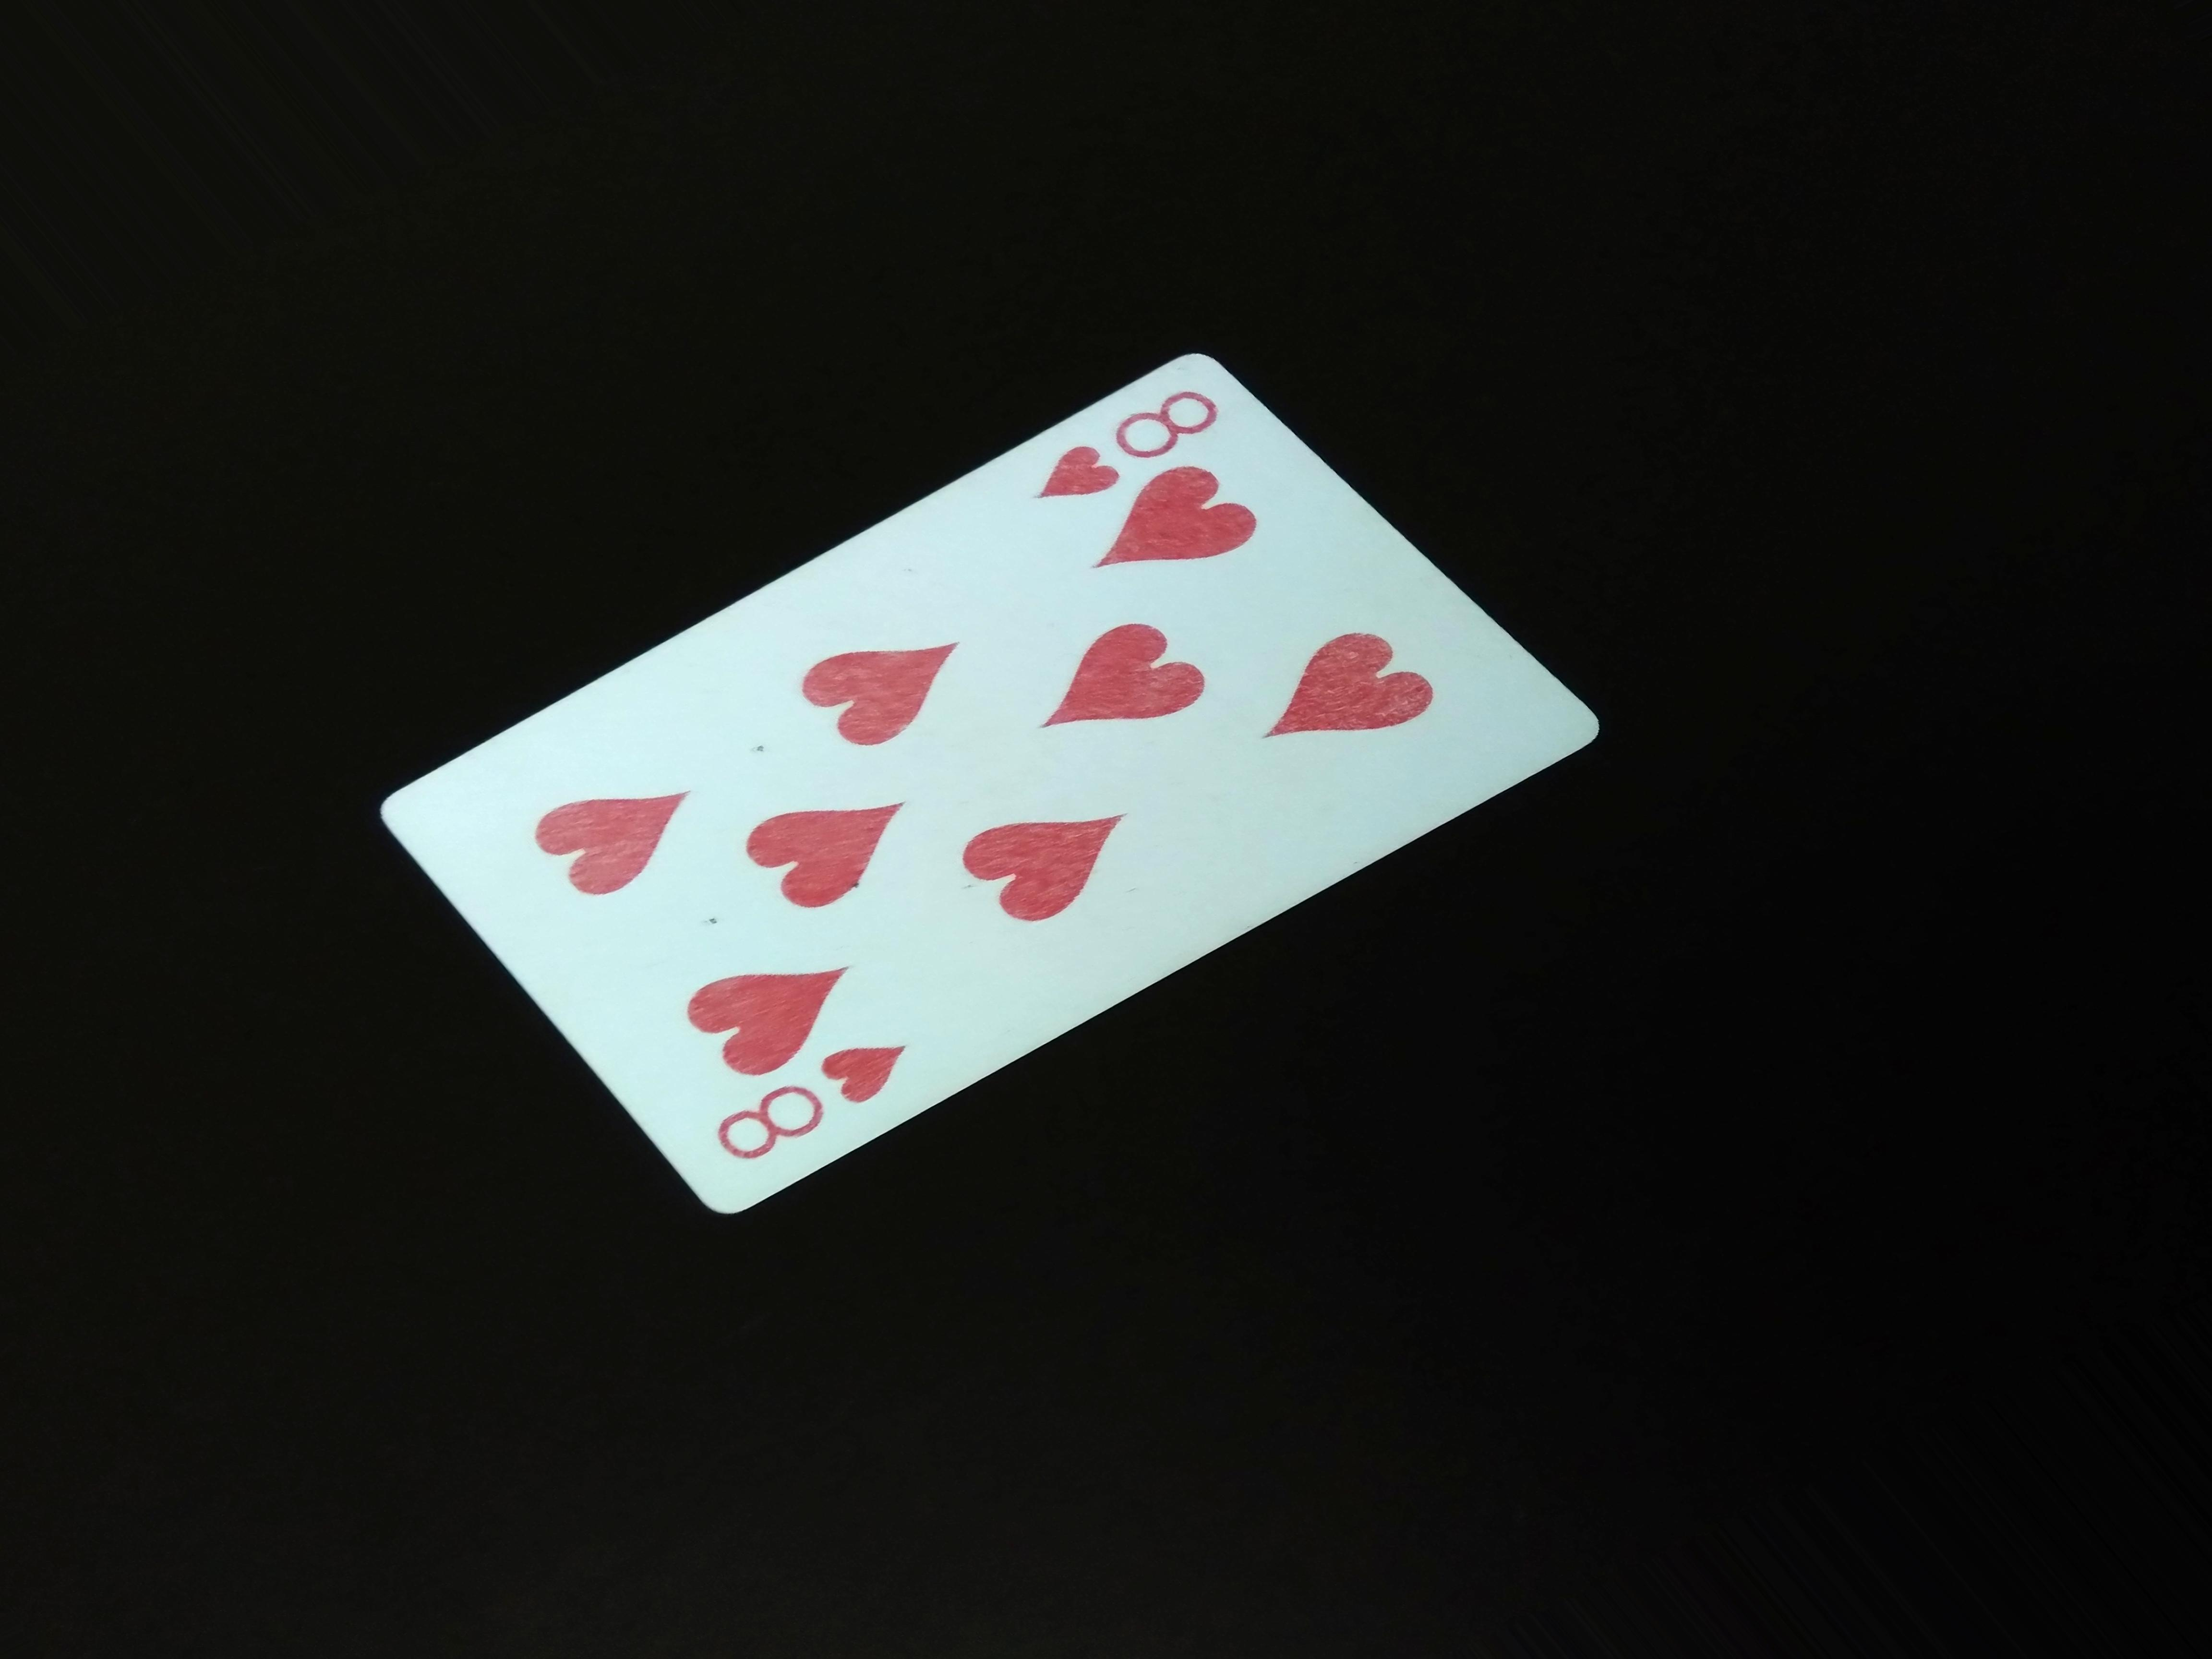8H: (712, 1044, 911, 1157)
